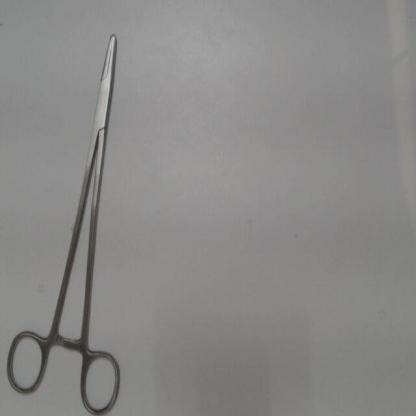8 Mayo Needle Holder: (3, 20, 128, 416)
